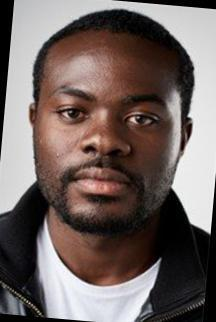Sober: (41, 47, 177, 211)
